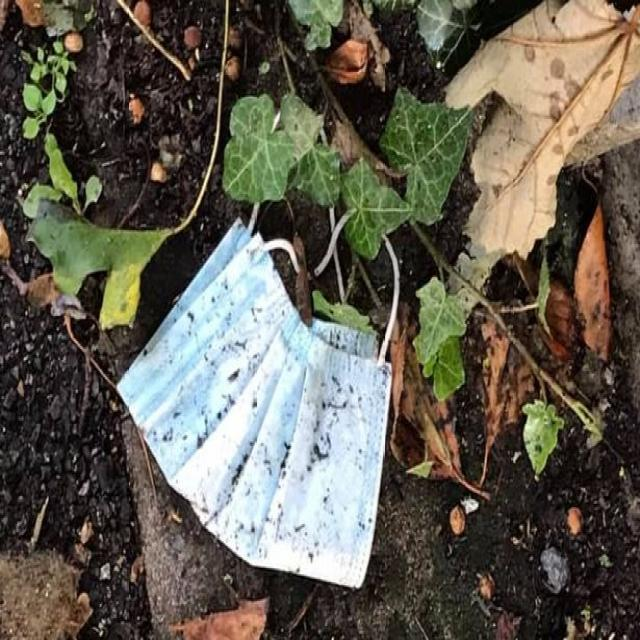non-organic waste: (125, 205, 404, 584)
